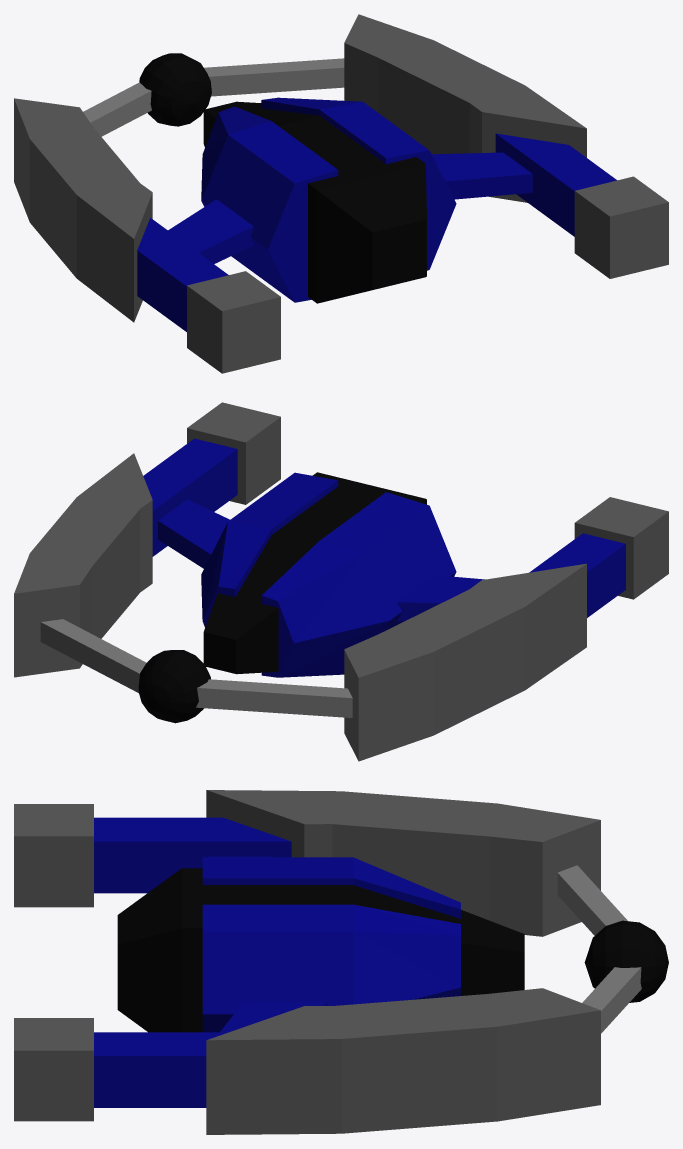
File: ship_obj.obj
3 renders of one model, top to bottom at view 1: azimuth 30°, elevation 25°; view 2: azimuth 150°, elevation 25°; view 3: azimuth 270°, elevation 25°, orthographic. The views are drawn at different scales.
Visible parts, largest first — view 1: meshboosters, meshrails, meshgrasvball, meshsupports; view 2: meshboosters, meshrails, meshgrasvball, meshsupports; view 3: meshboosters, meshrails, meshgrasvball, meshsupports.
Part boxes in pixels (left/top/right/bottom): meshboosters: left=14, top=14, right=668, bottom=373; meshrails: left=137, top=97, right=616, bottom=331; meshgrasvball: left=139, top=53, right=426, bottom=303; meshsupports: left=83, top=58, right=344, bottom=136; meshboosters: left=14, top=402, right=668, bottom=761; meshrails: left=143, top=438, right=625, bottom=677; meshgrasvball: left=138, top=472, right=426, bottom=723; meshsupports: left=40, top=619, right=352, bottom=717; meshboosters: left=14, top=790, right=600, bottom=1134; meshrails: left=94, top=817, right=460, bottom=1107; meshgrasvball: left=117, top=868, right=668, bottom=1032; meshsupports: left=557, top=865, right=641, bottom=1033.
Size of the model in its own units: 0.8985 by 0.2371 by 0.9939.
